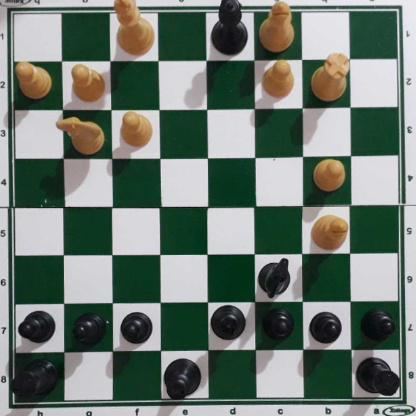black-bishop: (210, 304, 249, 341)
black-king: (163, 358, 204, 401)
black-knight: (258, 258, 293, 301)
black-pawn: (20, 311, 56, 347), (72, 314, 106, 348), (121, 314, 154, 348), (362, 312, 396, 344), (311, 312, 343, 346), (263, 310, 295, 344)
black-queen: (210, 0, 248, 57)
black-rook: (355, 358, 403, 400), (11, 361, 58, 399)
white-bishop: (259, 3, 295, 55), (311, 214, 350, 251)
white-king: (112, 0, 156, 57)
white-knight: (55, 117, 107, 159)
white-pawn: (69, 66, 108, 105), (119, 110, 154, 150), (16, 64, 53, 101), (262, 60, 296, 100), (312, 158, 347, 193)
white-rook: (311, 52, 352, 103)
